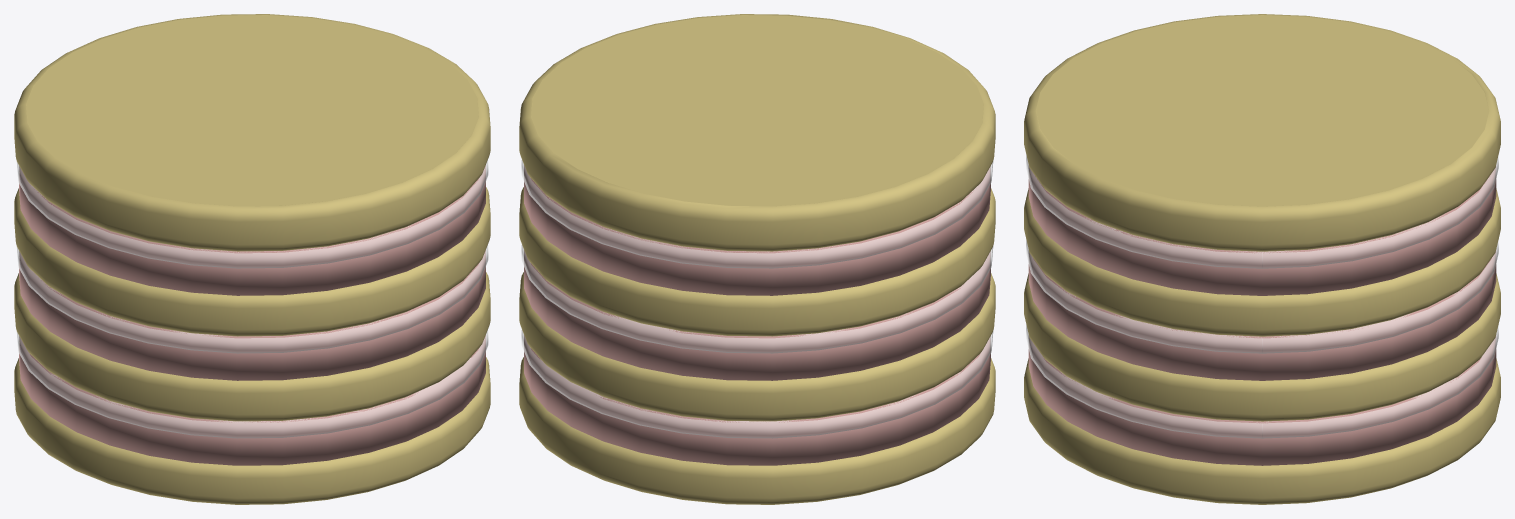
The model's file is tier_8.glb.
3 renders of one model, left to right at view 1: azimuth 30°, elevation 25°; view 2: azimuth 150°, elevation 25°; view 3: azimuth 270°, elevation 25°, orthographic.
Visible parts, largest first — view 1: 8_Cake, 8_TopCap, 8_Frosting, 8_Filling; view 2: 8_Cake, 8_TopCap, 8_Frosting, 8_Filling; view 3: 8_Cake, 8_TopCap, 8_Frosting, 8_Filling.
Part boxes in pixels (<box>): 8_Cake: <box>14,14,490,504</box>; 8_TopCap: <box>26,15,478,206</box>; 8_Frosting: <box>19,165,485,465</box>; 8_Filling: <box>16,160,488,438</box>; 8_Cake: <box>519,14,995,504</box>; 8_TopCap: <box>531,15,983,206</box>; 8_Frosting: <box>524,165,990,465</box>; 8_Filling: <box>521,160,993,438</box>; 8_Cake: <box>1024,14,1500,504</box>; 8_TopCap: <box>1036,15,1488,206</box>; 8_Frosting: <box>1028,165,1496,465</box>; 8_Filling: <box>1026,155,1498,438</box>.
Bounding box in the file's own units: 0.2032 × 0.1397 × 0.2032.
